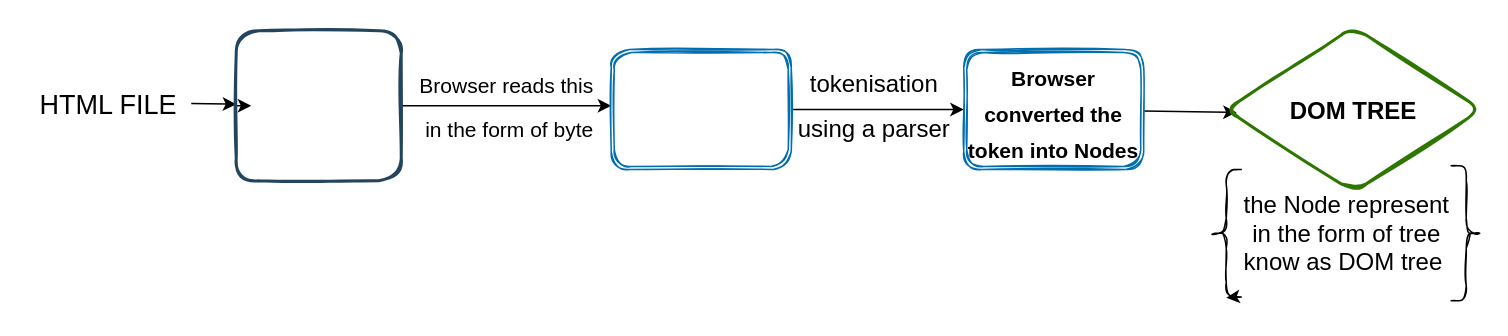
This 1508x336 diagram has some shape labels left out. Each missing label, with the centre of its shape:
BROWSER: point (318, 105)
Bytes are converted into charecters: point (700, 109)
